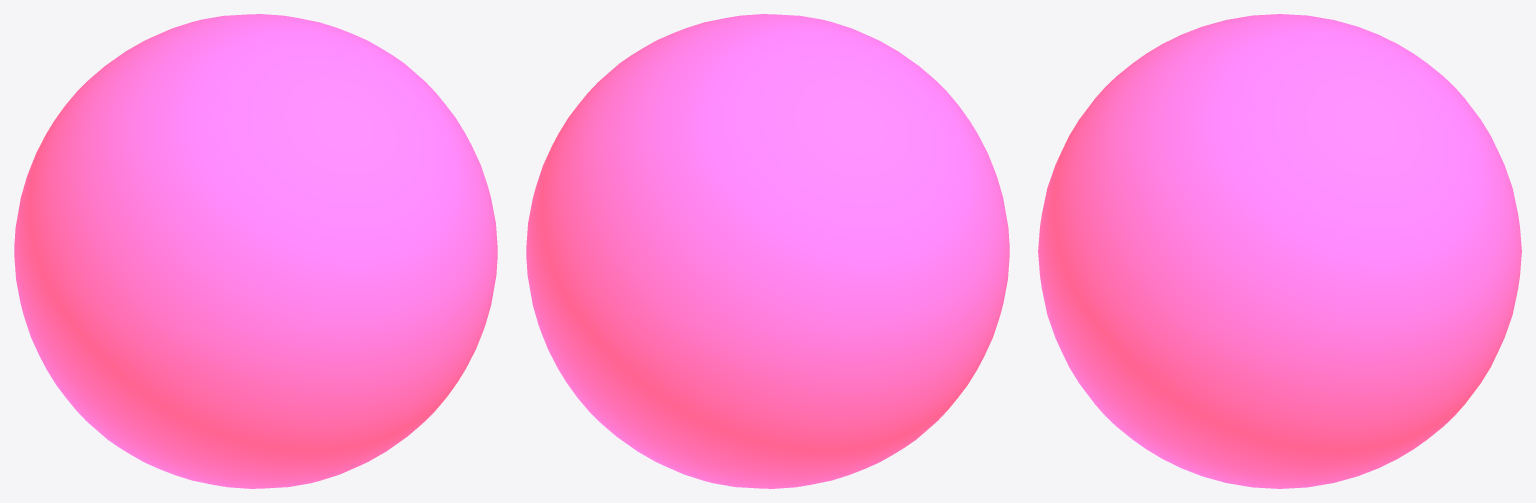
File: SphereParticle_PURPLE.glb
3 views of the same model, side by side, from view 1: azimuth 30°, elevation 25°; view 2: azimuth 150°, elevation 25°; view 3: azimuth 270°, elevation 25° (orthographic).
Parts seen in each view (by area): view 1: Sphere; view 2: Sphere; view 3: Sphere.
Boxes of the visible parts, x1,y1,x2,y2 form: Sphere: (14, 14, 497, 488); Sphere: (526, 14, 1009, 488); Sphere: (1038, 14, 1521, 488).
Size of the model in its own units: 1 by 0.9803 by 1.
